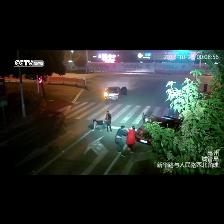person: (115, 126, 126, 156), (127, 126, 135, 153), (92, 120, 105, 131), (106, 111, 111, 132)
